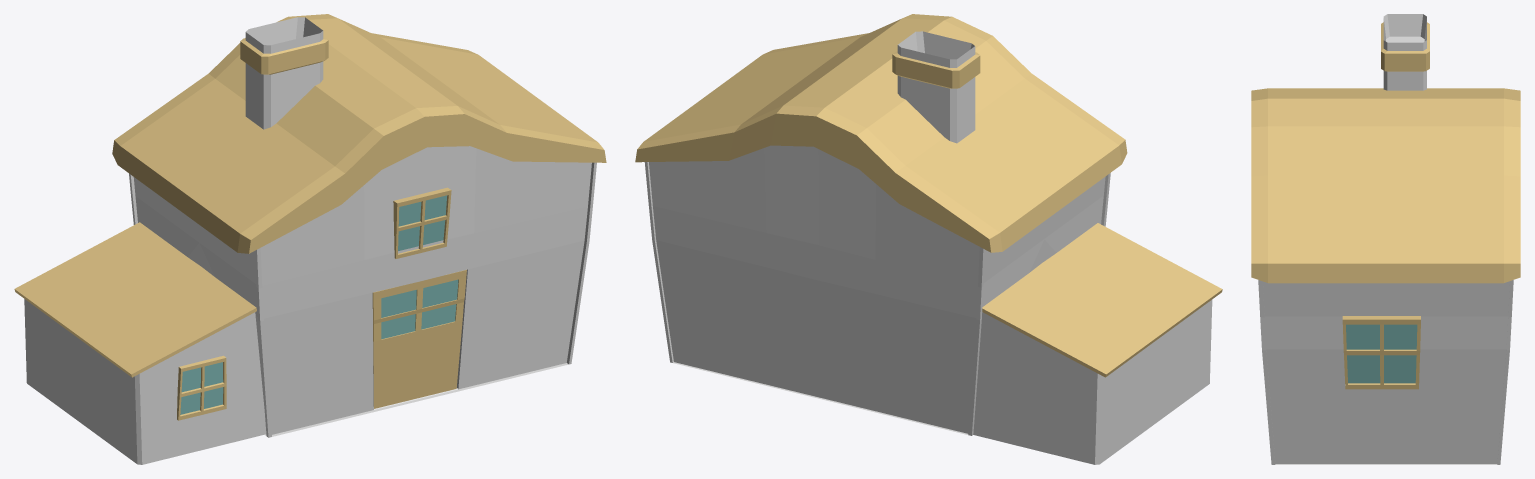
The model's file is house5.fbx.
3 views of the same model, side by side, from view 1: azimuth 30°, elevation 25°; view 2: azimuth 150°, elevation 25°; view 3: azimuth 270°, elevation 25° (orthographic).
Visible parts, largest first — view 1: polySurface176; view 2: polySurface176; view 3: polySurface176.
Boxes of the visible parts, box(x1,y1,x2,y2) form: polySurface176: box(14, 14, 606, 464); polySurface176: box(635, 14, 1222, 464); polySurface176: box(1251, 14, 1520, 464).
Size of the model in its own units: 3.52 by 2.42 by 1.78.
